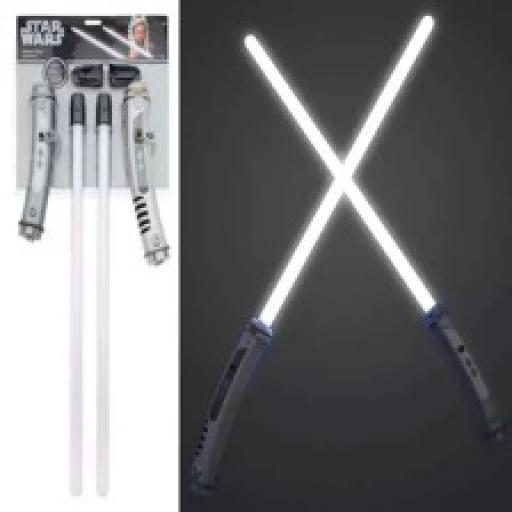lightsaber: (190, 9, 442, 494), (242, 26, 508, 446), (125, 81, 171, 264), (18, 75, 60, 241)
